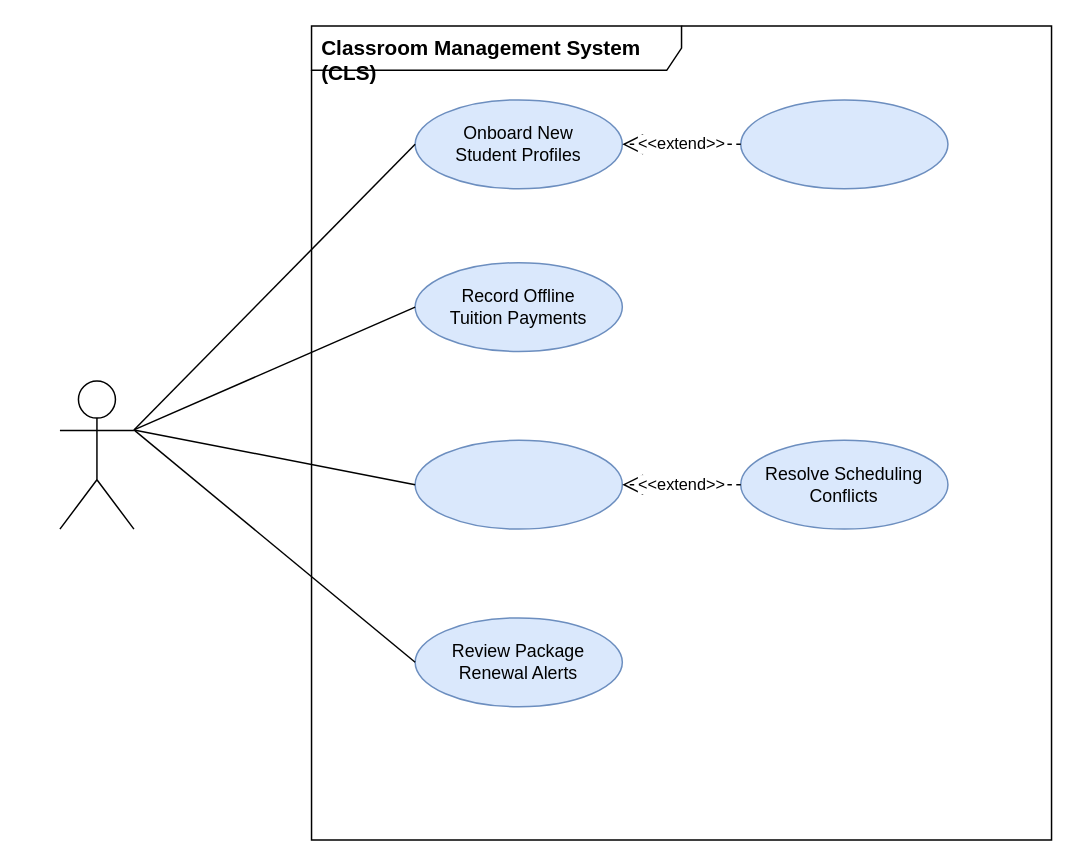
The diagram is 1077 pixels wide and 866 high, and some of its shapes have lost their labels. The box of each missing label's shape, as (x1, y1, x2, y2) in pixels:
Academic Admin: (58, 380, 134, 529)
Setup Core Teaching Schedules: (414, 439, 622, 529)
Update Student Lifecycles: (739, 98, 948, 189)
